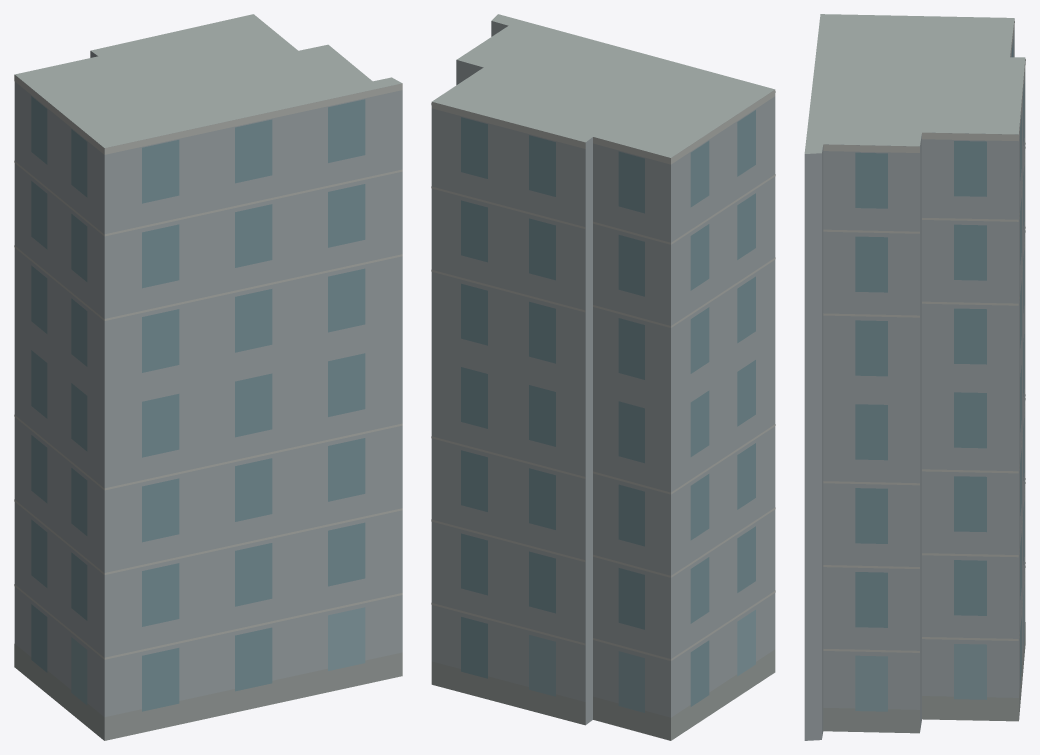
Rendered from survey-upis-32980848.glb.
3 views of the same model, side by side, from view 1: azimuth 30°, elevation 25°; view 2: azimuth 150°, elevation 25°; view 3: azimuth 270°, elevation 25° (orthographic).
Parts seen in each view (by area): view 1: survey-upis-32980848.tmp; view 2: survey-upis-32980848.tmp; view 3: survey-upis-32980848.tmp.
Part boxes in pixels (x1,y1,x2,y2): survey-upis-32980848.tmp: (14,14,402,740); survey-upis-32980848.tmp: (431,14,775,740); survey-upis-32980848.tmp: (804,14,1025,740).
Size of the model in its own units: 10.94 by 21.35 by 7.31.
